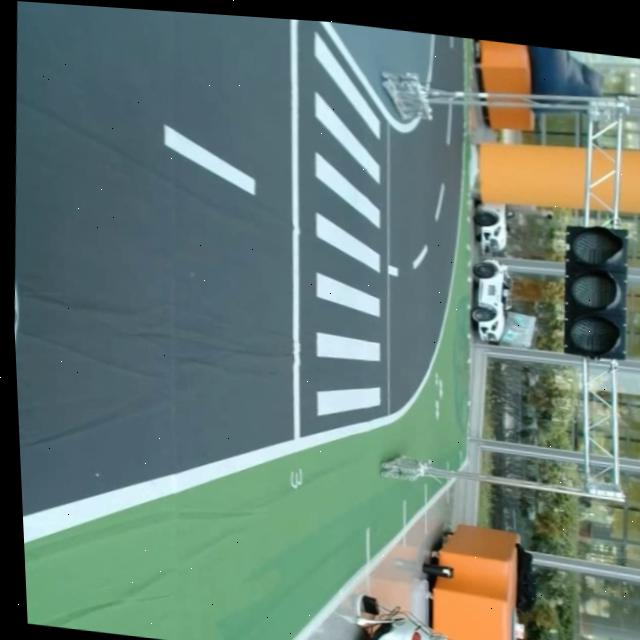traffic-light: (554, 216, 636, 368)
